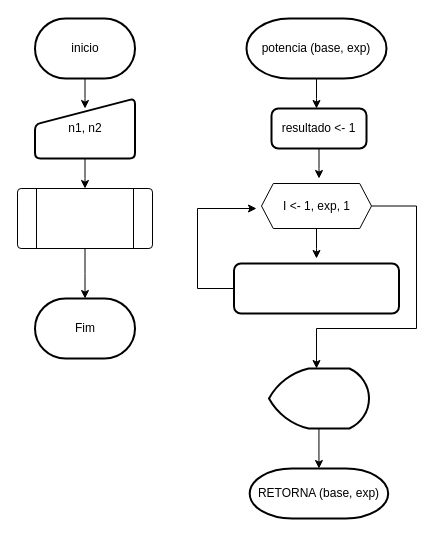
The diagram is 442 pixels wide and 536 high, and some of its shapes have lost their labels. Each missing label, with the centre of its shape:
potencia (n1, n2): pixel 84 218
resultado: pixel 319 398
resultado <- resultado ⨂ base: pixel 316 288
